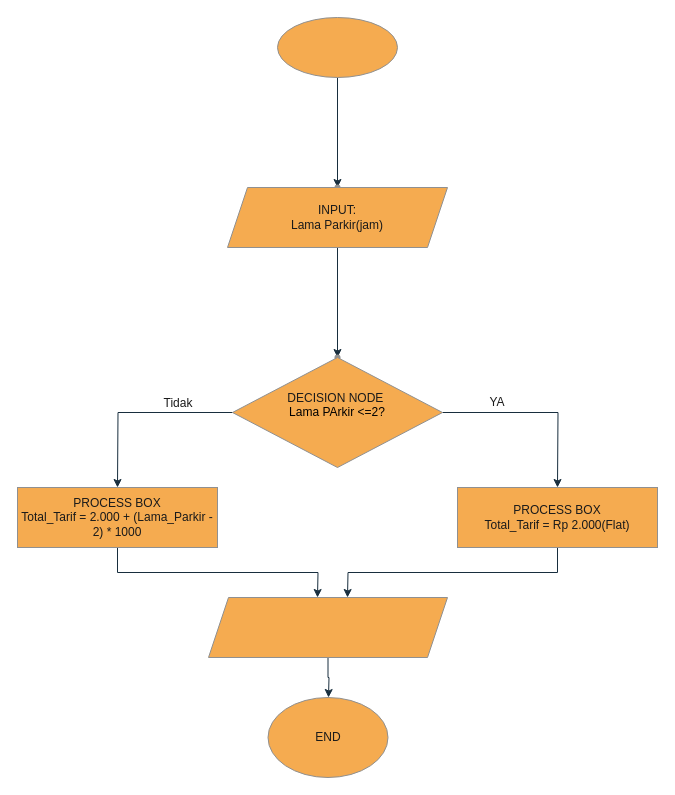
This 675x795 diagram has some shape labels left out. The shapes that lost their labels are listed below. From the top down, each one's centre as x and y in pixels, then its label:
[337,47]: Start
[328,627]: OUTPUT: Total_Tarif(Rp)
